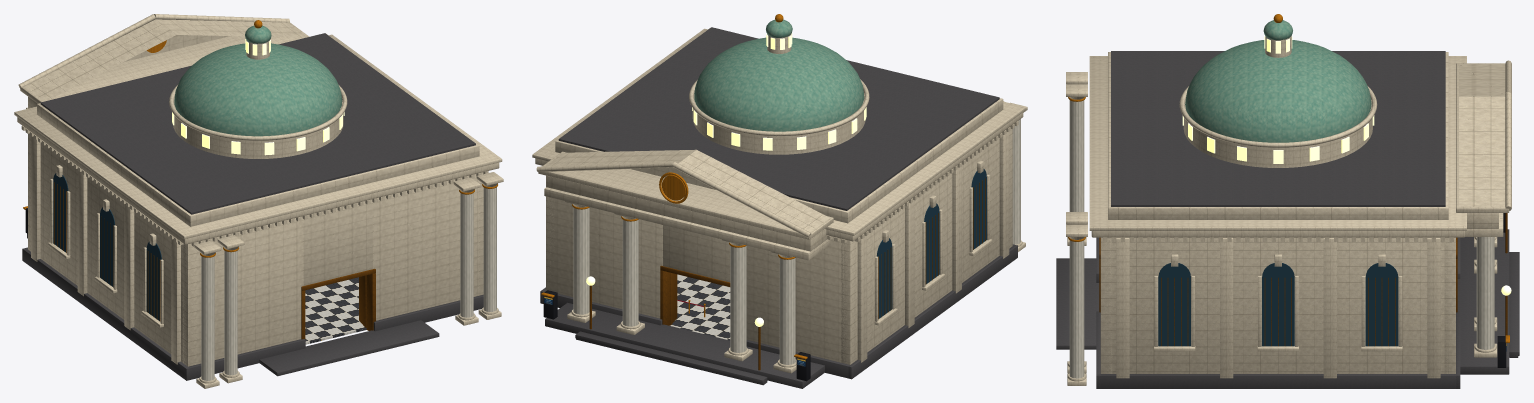
File: bank.glb
3 views of the same model, side by side, from view 1: azimuth 30°, elevation 25°; view 2: azimuth 150°, elevation 25°; view 3: azimuth 270°, elevation 25° (orthographic). The views are drawn at different scales.
Visible parts, largest first — view 1: bank; view 2: bank; view 3: bank.
Part boxes in pixels (x1=…): bank: x1=14, y1=14, x2=503, y2=388; bank: x1=532, y1=14, x2=1027, y2=388; bank: x1=1056, y1=14, x2=1519, y2=388.
Size of the model in its own units: 27.5 by 21.87 by 31.3.
16 materials, 11 textured.
